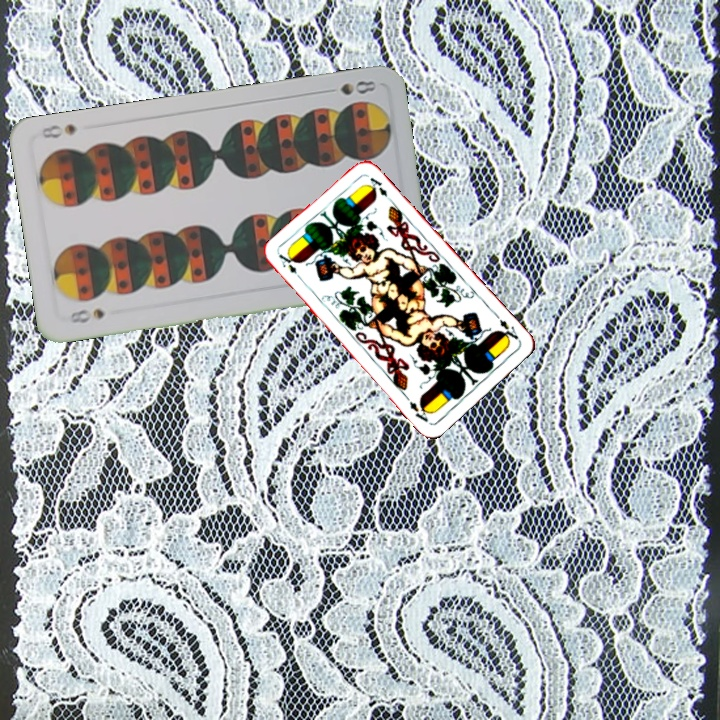EA: (491, 309, 521, 345), (275, 250, 306, 284)
S8: (320, 76, 379, 98), (66, 304, 108, 326)
